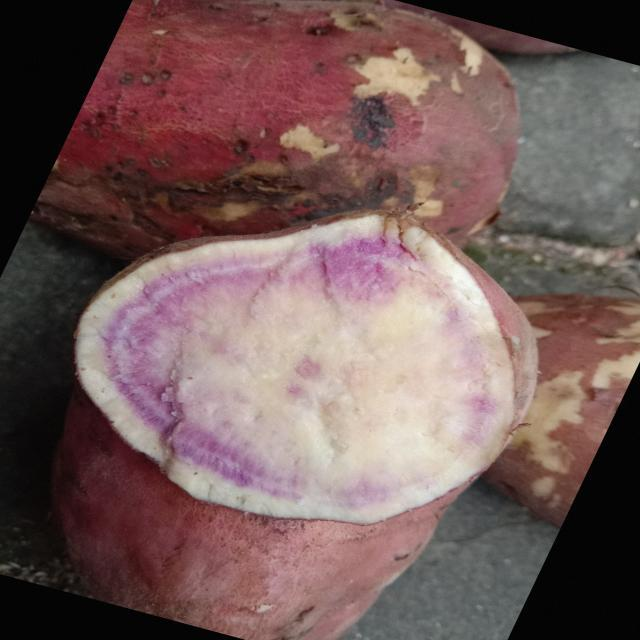Healthy Sweet Potato: (75, 211, 537, 524)
